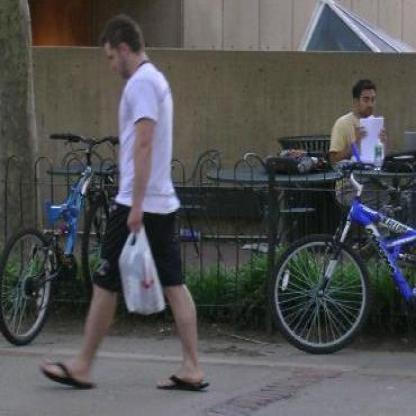person: (41, 12, 218, 398)
